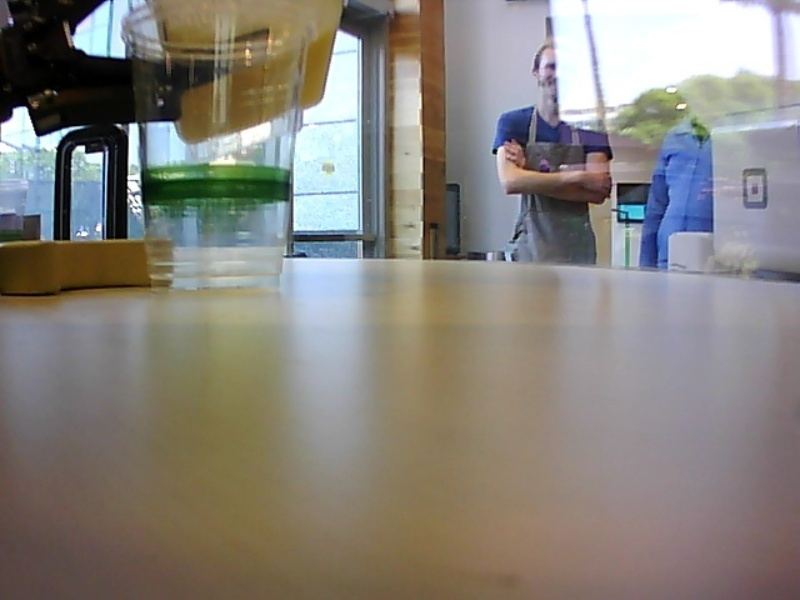cup: (115, 1, 318, 298)
